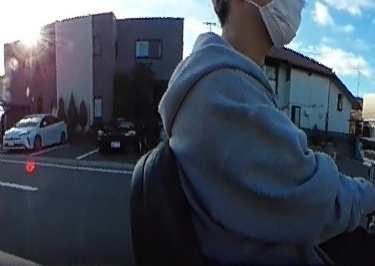person: (161, 0, 375, 257)
